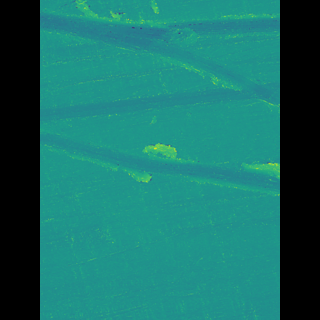Loch: (68, 8, 250, 109), (68, 124, 251, 199)
